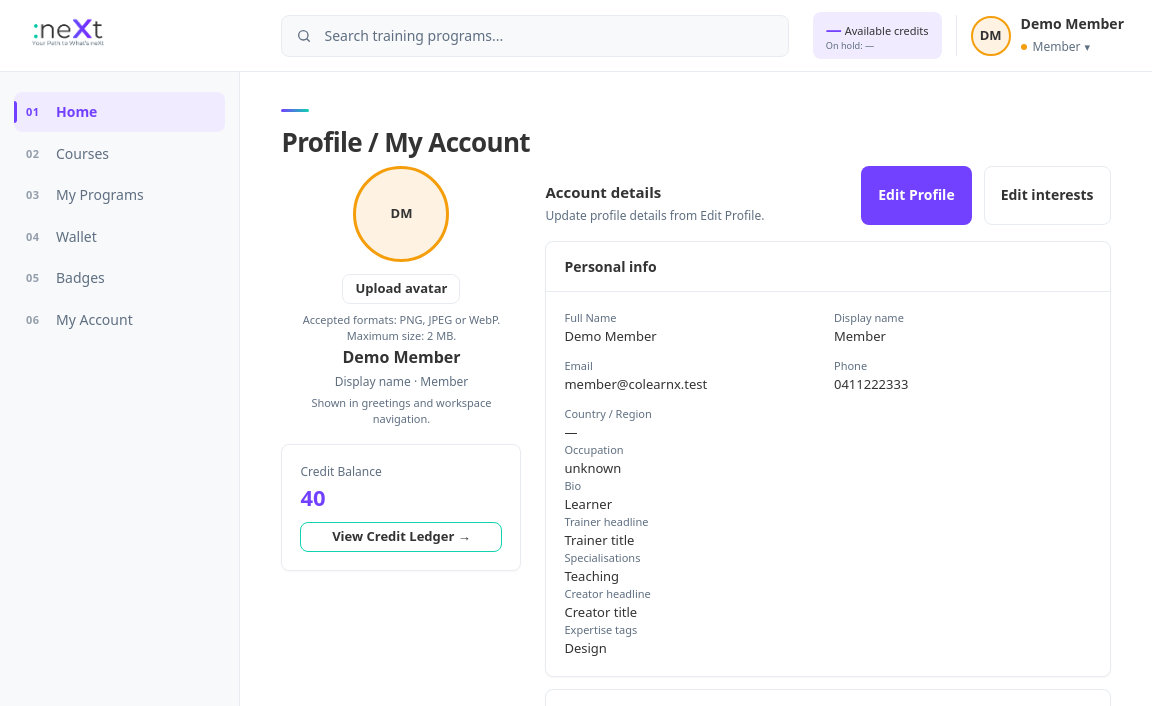
Test case: shows both role profiles and visibility controls on the member account
Expected: the text "Trainer title" is shown, [564,531,634,549]
Expected: the text "Creator title" is shown, [564,603,637,621]
Click the button "Edit Profile".
click(916, 196)  # box [861,166,972,225]
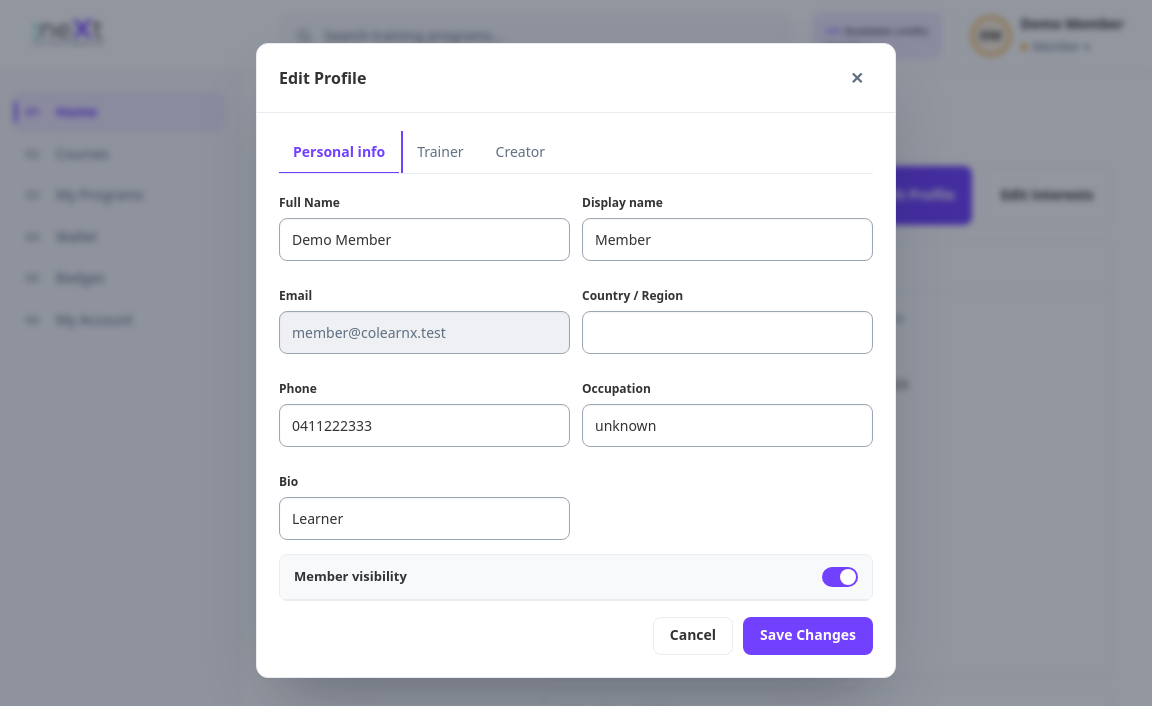
Click the tab "Trainer".
click(440, 152)  # box [403,130,478,174]
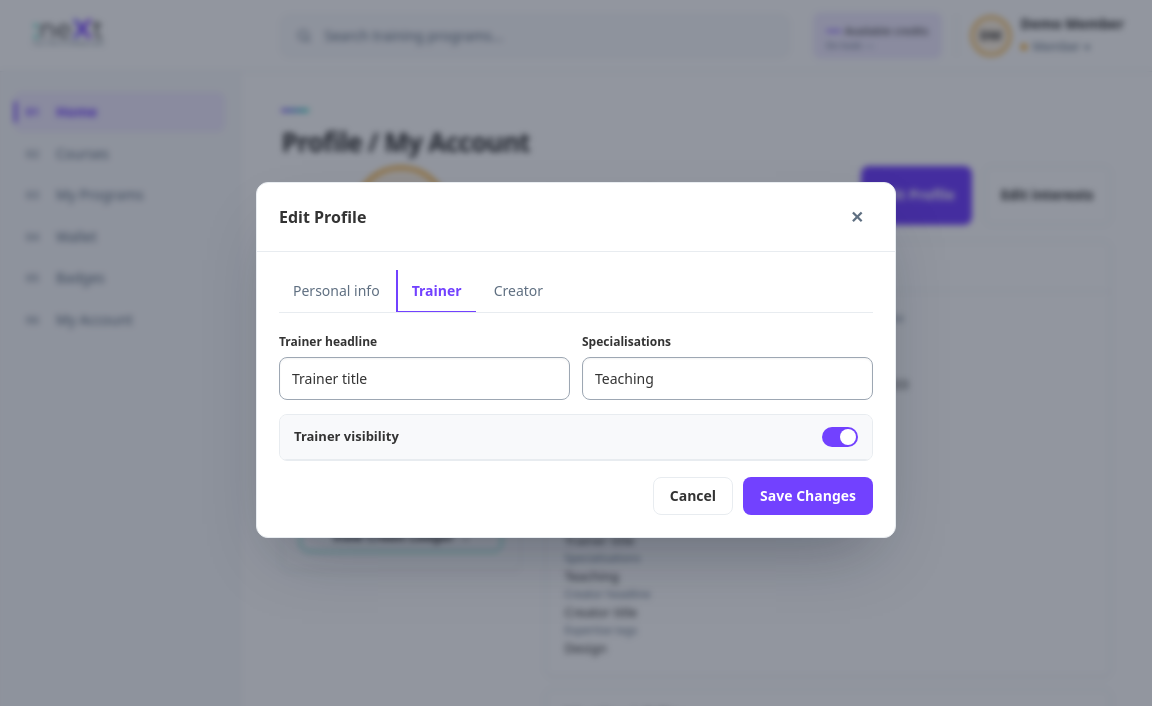
Result: the field labelled "Trainer headline" holds "Trainer title" at [279,357,570,400]
Click the tab "Creator".
click(518, 292)  # box [480,270,557,313]
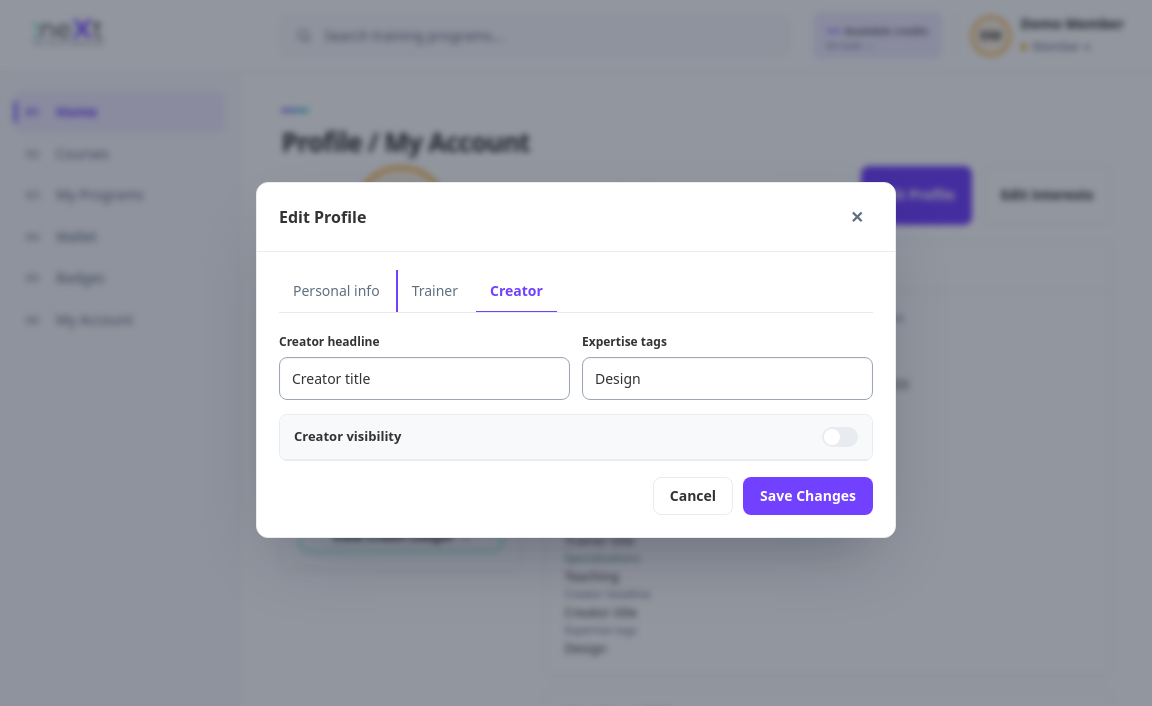
Result: the field labelled "Creator headline" holds "Creator title" at [279,357,570,400]
